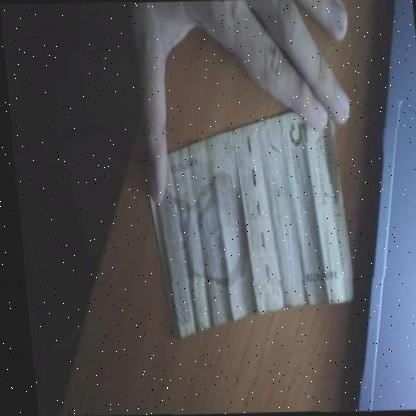five-front-vef: (140, 111, 353, 338)
